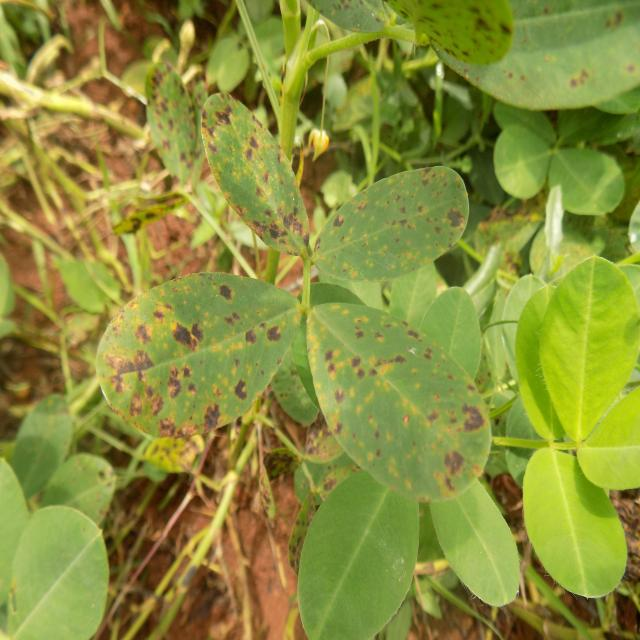Ground nut_healthy: (537, 247, 640, 430), (520, 438, 628, 600)
Ground nut_tikka leaf spot: (306, 298, 489, 483), (92, 278, 295, 424), (316, 173, 468, 288), (202, 88, 302, 246)
